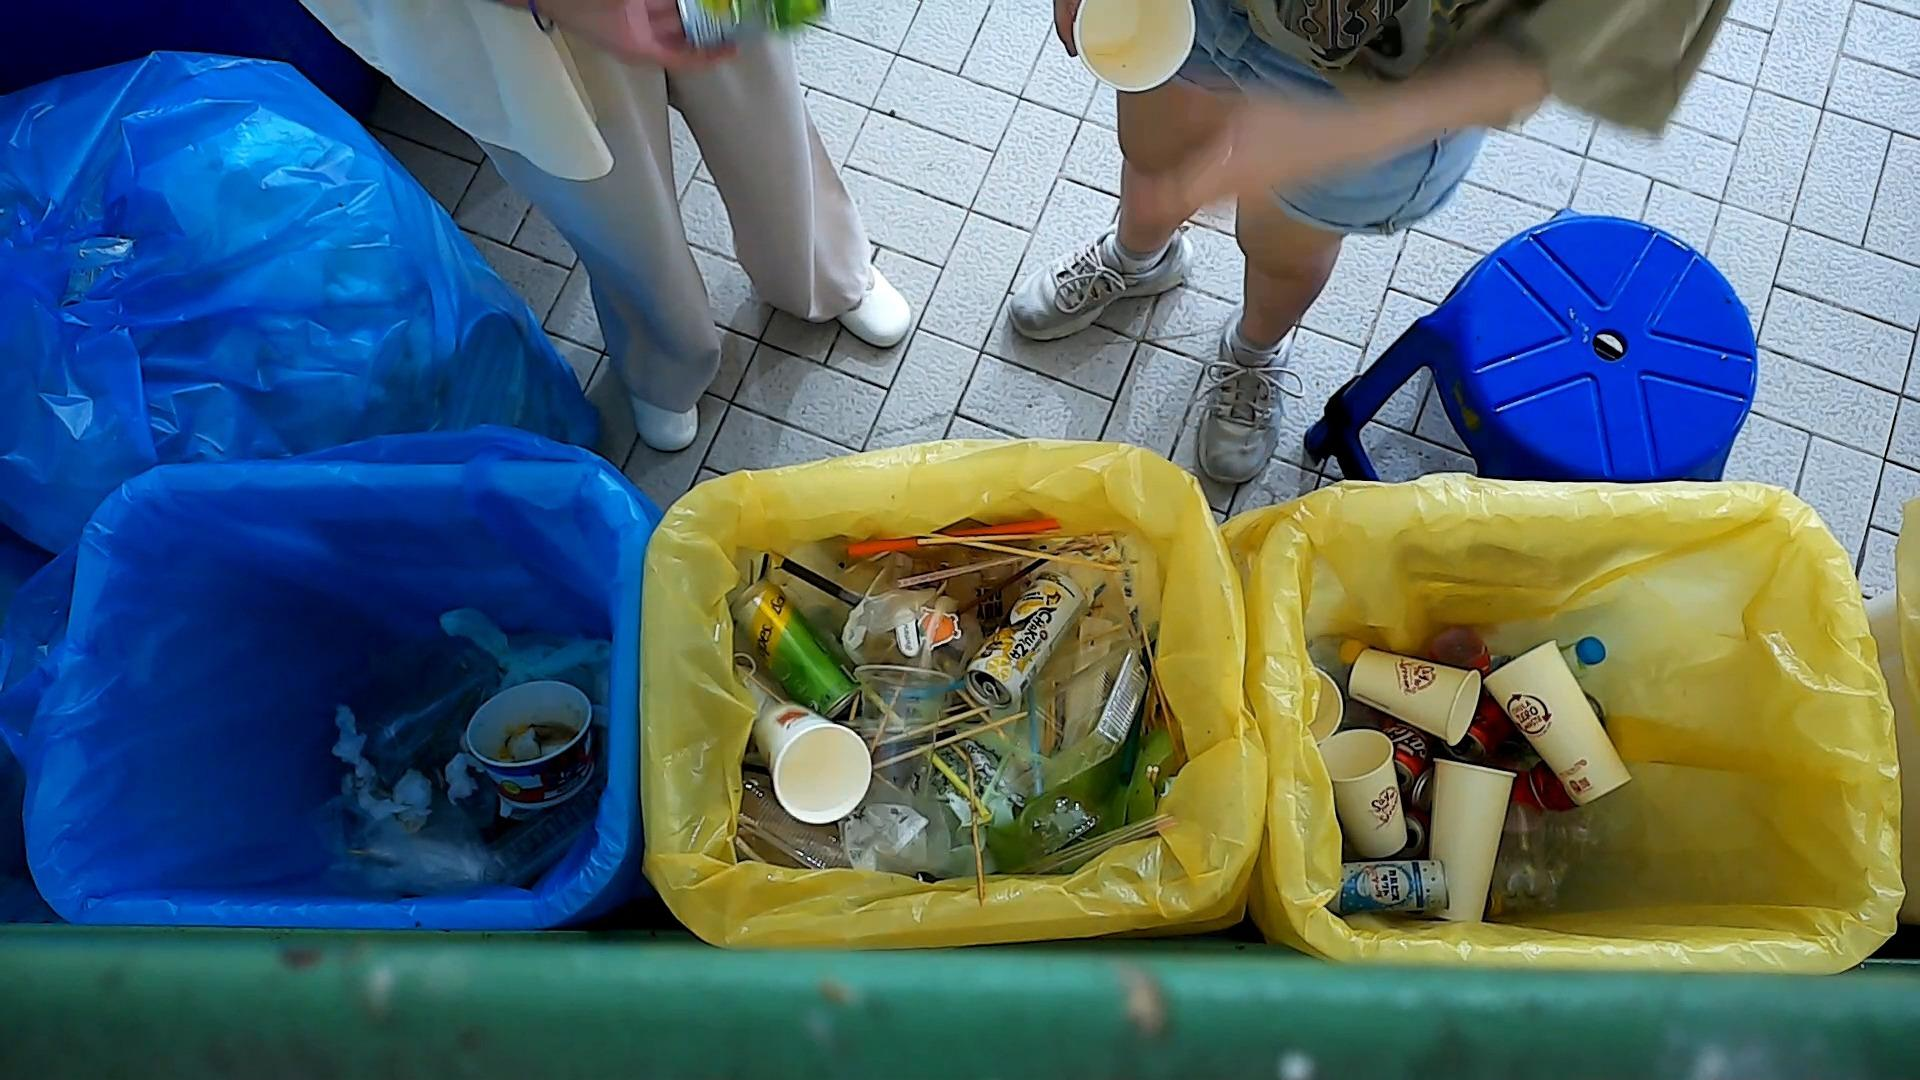can: (725, 575, 862, 724), (961, 567, 1093, 712), (1324, 856, 1453, 919), (1526, 758, 1588, 816)
dirty food container: (463, 678, 597, 814)
food container: (1000, 644, 1154, 807)
plastic bag: (828, 758, 956, 877)
plastic cup: (840, 559, 985, 676), (848, 659, 960, 807)
sticks: (860, 708, 1033, 771), (920, 529, 1122, 580), (1139, 620, 1185, 771), (869, 703, 998, 748), (913, 526, 1130, 547), (963, 746, 988, 909)
straw: (866, 684, 993, 825), (953, 558, 1050, 615), (894, 555, 1029, 591), (778, 553, 862, 608), (1023, 673, 1044, 800)
tissue paper: (355, 764, 435, 831), (327, 702, 380, 782), (442, 750, 487, 810)
zero waste cup: (1482, 638, 1636, 811), (1418, 753, 1527, 926), (749, 700, 877, 828), (1344, 640, 1484, 753), (1319, 725, 1412, 862), (1063, 0, 1201, 91)
